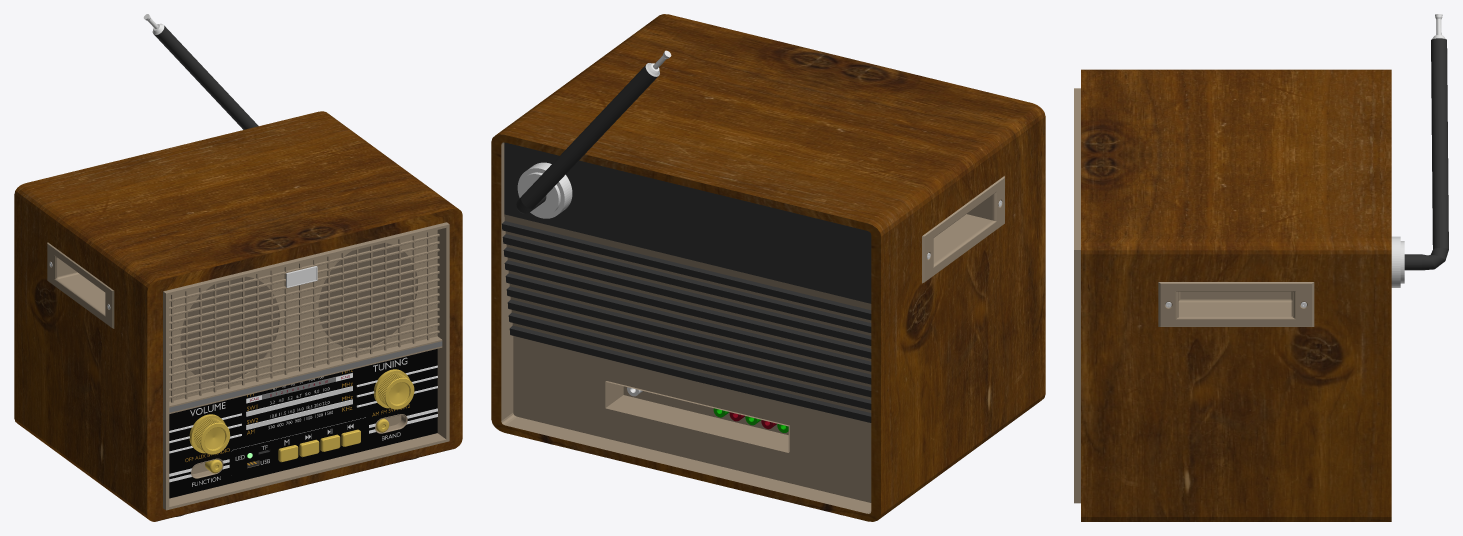
Rendered from radio.glb.
3 views of the same model, side by side, from view 1: azimuth 30°, elevation 25°; view 2: azimuth 150°, elevation 25°; view 3: azimuth 270°, elevation 25° (orthographic). The views are drawn at different scales.
Parts seen in each view (by area): view 1: Cube, Cube.002, Cube.001, Cylinder.013, Cylinder.003, Cylinder.001, Cube.016, Cube.014, Cube.015; view 2: Cube, Cylinder.013; view 3: Cube, Cylinder.013.
Boxes of the visible parts, x1,y1,x2,y2 form: Cube: (14, 111, 462, 521); Cube.002: (169, 233, 439, 398); Cube.001: (171, 232, 429, 402); Cylinder.013: (143, 14, 258, 129); Cylinder.003: (378, 373, 414, 409); Cylinder.001: (194, 418, 230, 454); Cube.016: (246, 399, 352, 429); Cube.014: (246, 372, 352, 403); Cube.015: (246, 386, 352, 416); Cube: (491, 14, 1045, 521); Cylinder.013: (516, 50, 671, 218); Cube: (1074, 69, 1391, 521); Cylinder.013: (1391, 14, 1448, 287).
Bounding box in the file's own units: 2.76 × 3.05 × 2.41.
Materials: 14 (1 with a texture image).
